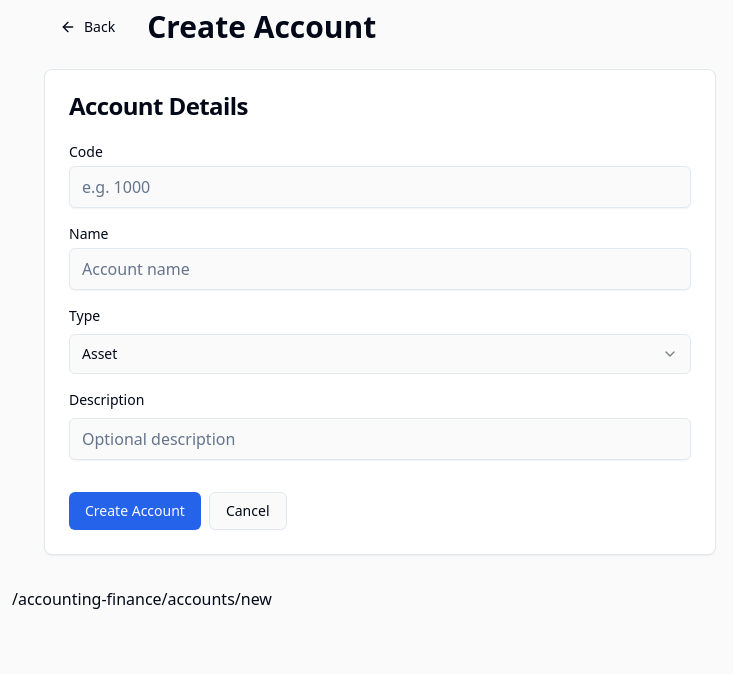
Test: accounting finance pages › creates accounts through the service boundary and navigates to the saved record
Click the button "Create Account" at x=135, y=511, box [69,492,201,530]
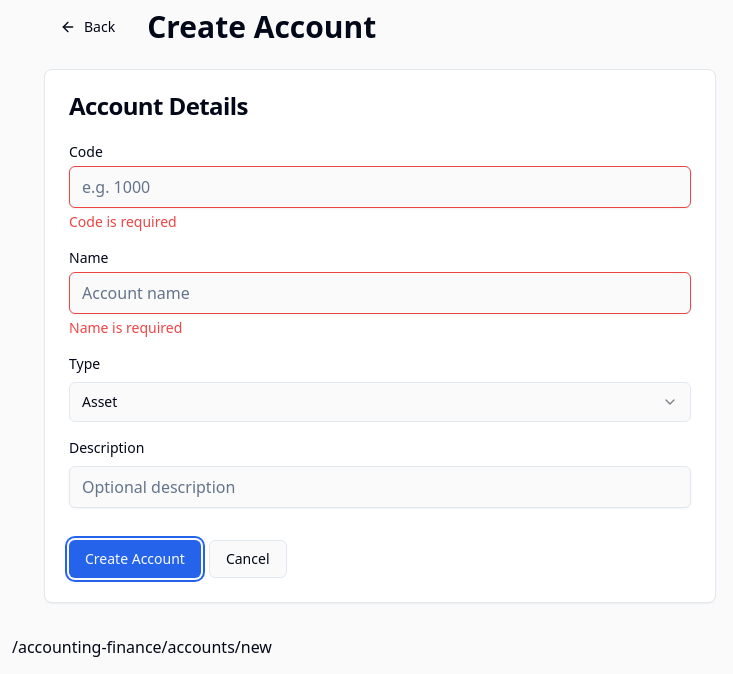
Check: the text "Code is required" is shown, box [69,212,177,231]
Check: the text "Name is required" is shown, box [69,318,182,337]
Type "2000" into the field labelled "Code" at x=380, y=187, box [69,166,691,208]
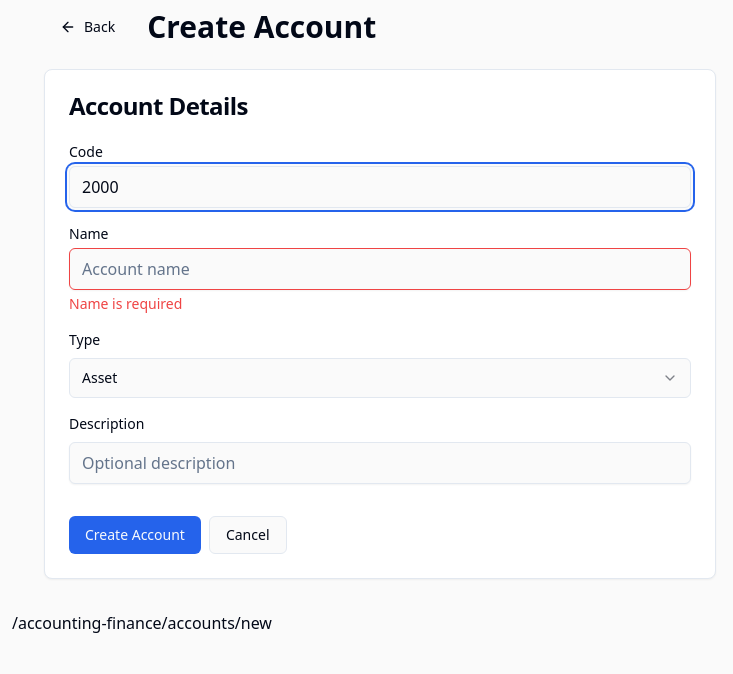
Type "Accounts Receivable" into the field labelled "Name" at x=380, y=269, box [69,248,691,290]
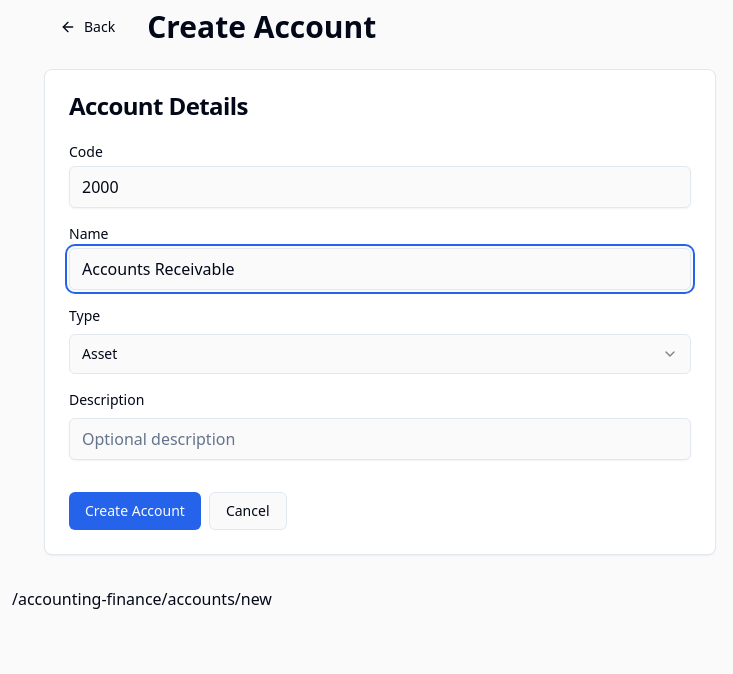
Type "Customer invoices" into the field with placeholder "Optional description" at x=380, y=439, box [69,418,691,460]
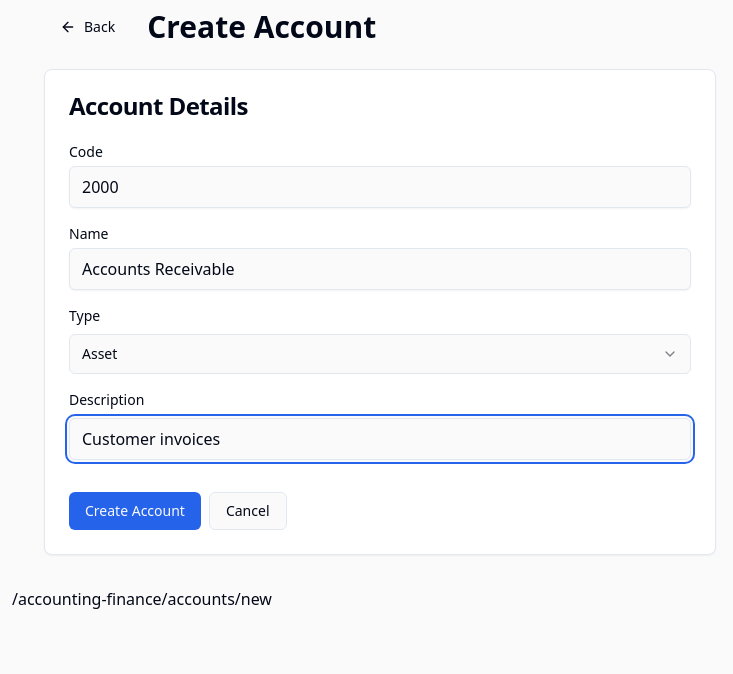
Click the button "Create Account" at x=135, y=511, box [69,492,201,530]
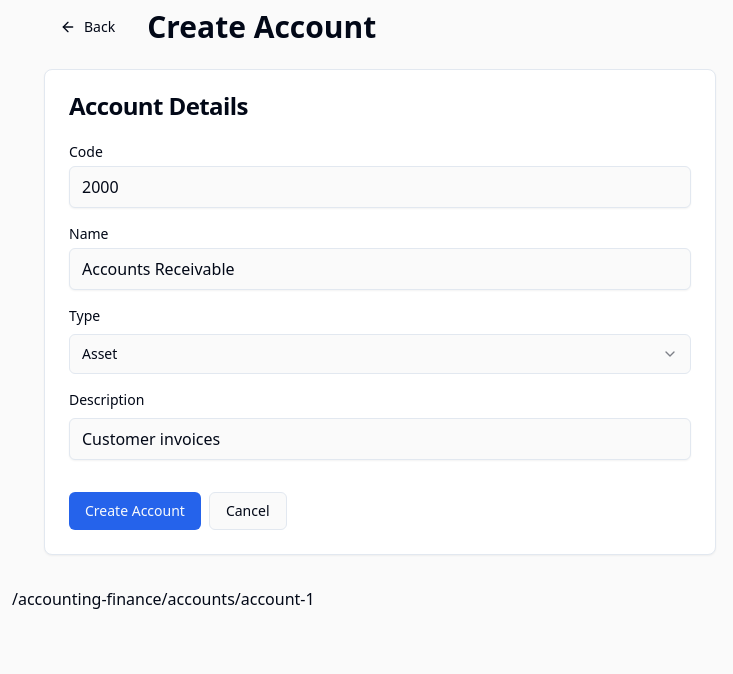
Check: the text named "location" reads "/accounting-finance/accounts/account-1", box [12,588,315,610]
